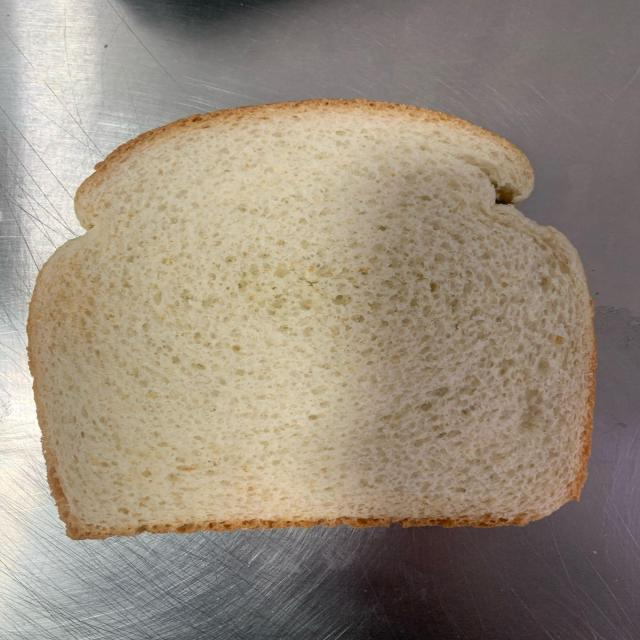sliced_bread: (27, 99, 595, 537)
